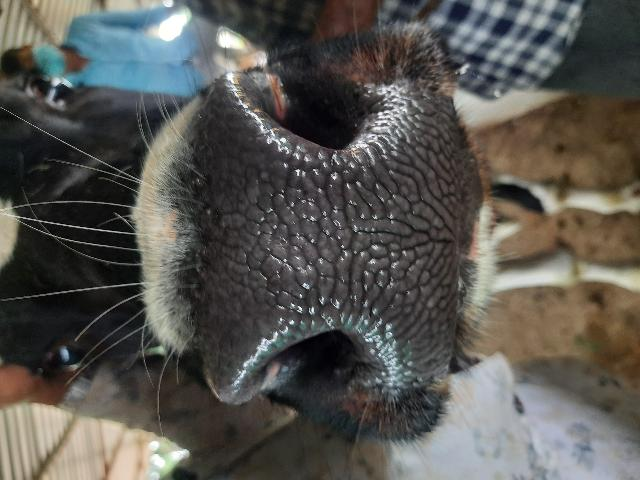Muzzle: (204, 143, 462, 339)
